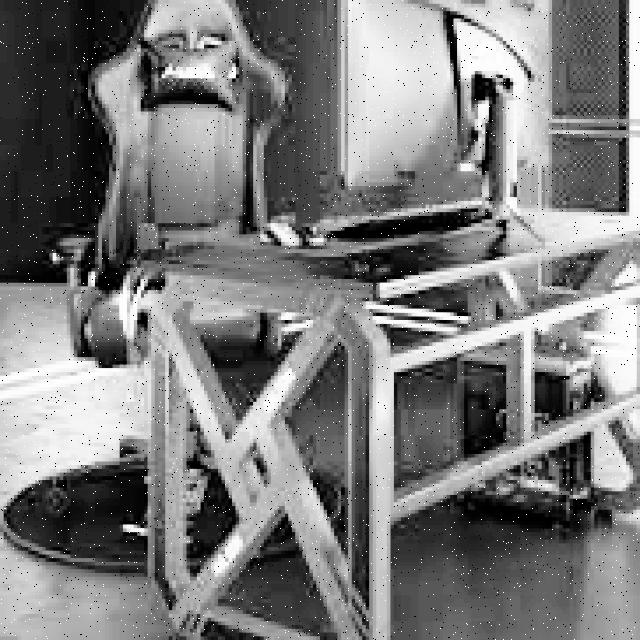table: (123, 201, 640, 640)
